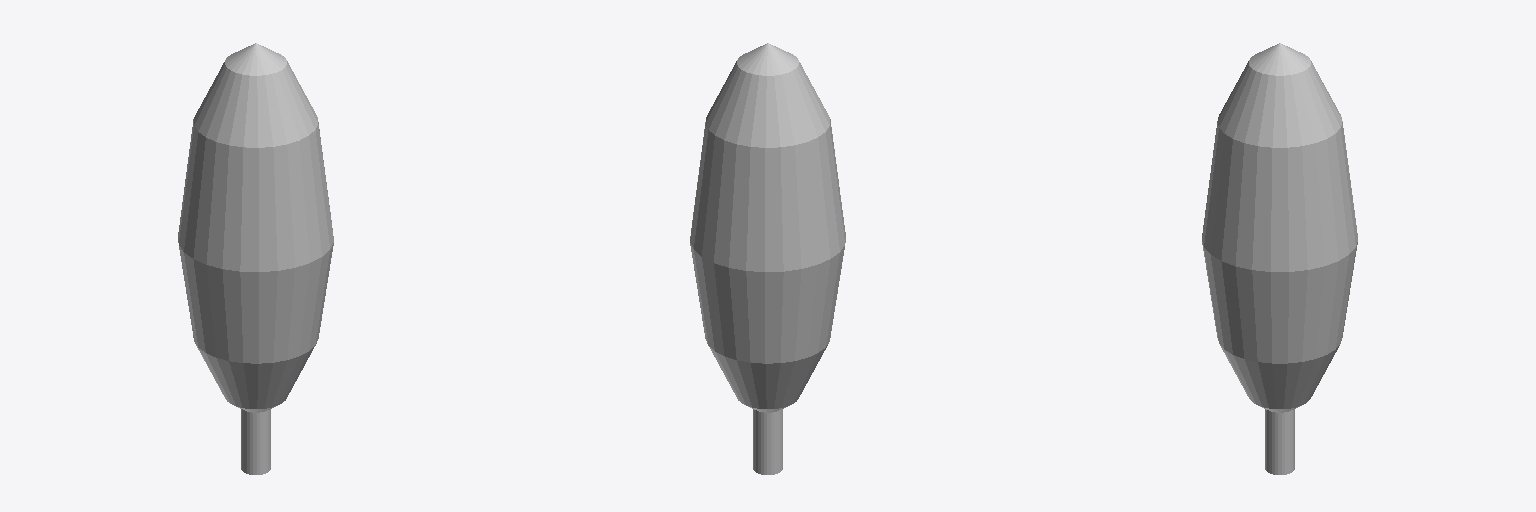
File: Prop_Decorative_Tree_Cedar_1.obj
3 views of the same model, side by side, from view 1: azimuth 30°, elevation 25°; view 2: azimuth 150°, elevation 25°; view 3: azimuth 270°, elevation 25° (orthographic).
Parts seen in each view (by area): view 1: object2, object1; view 2: object2, object1; view 3: object2, object1.
Boxes of the visible parts, <box> form: object2: <box>178,43,333,412</box>; object1: <box>241,409,270,474</box>; object2: <box>690,43,845,412</box>; object1: <box>753,409,782,474</box>; object2: <box>1202,43,1357,412</box>; object1: <box>1265,409,1294,474</box>.
Bounding box in the file's own units: 0.3971 × 1.2 × 0.4.